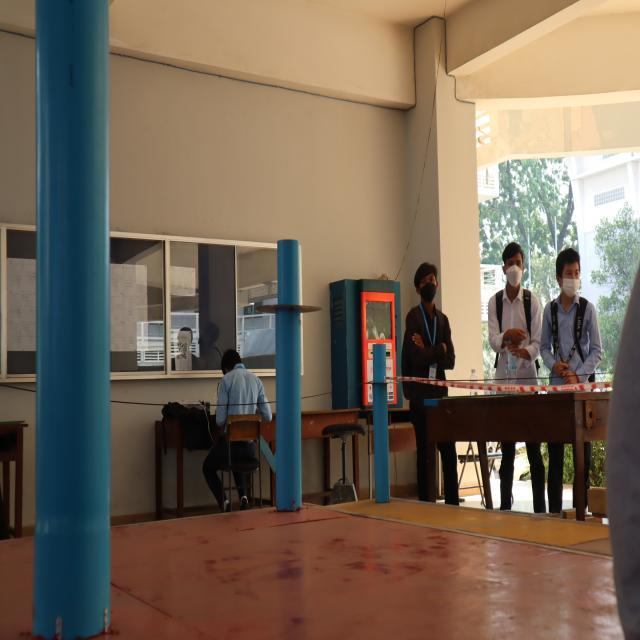pole: (253, 232, 327, 364), (357, 338, 397, 414)
